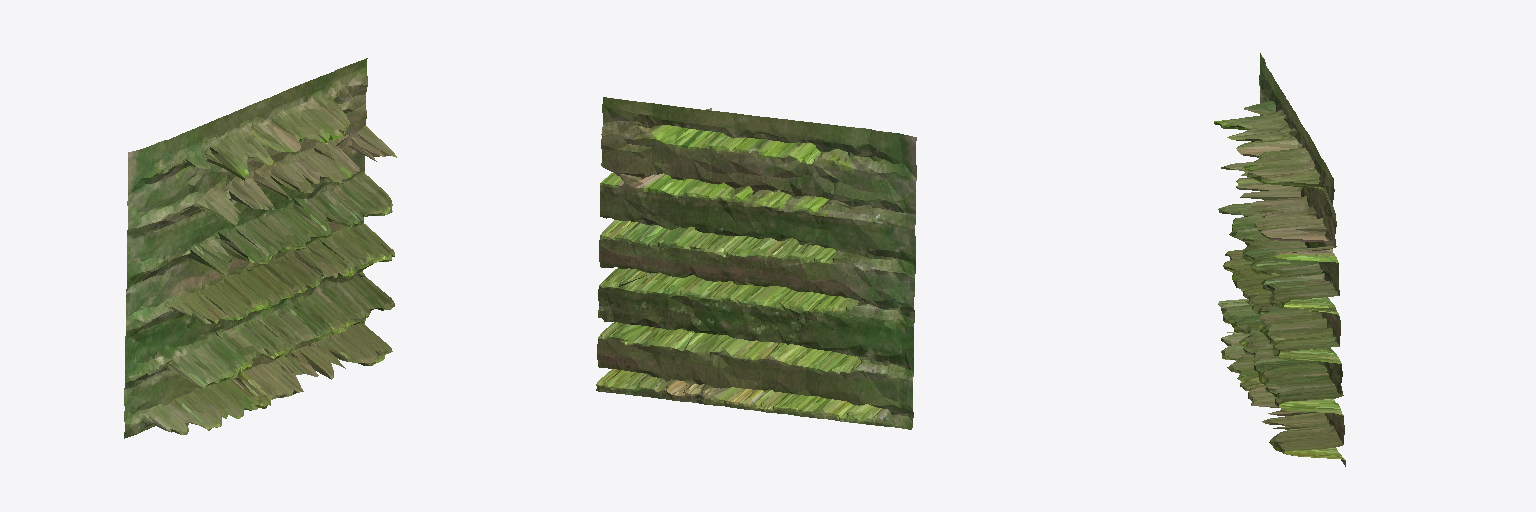
3 views of the same model, side by side, from view 1: azimuth 30°, elevation 25°; view 2: azimuth 150°, elevation 25°; view 3: azimuth 270°, elevation 25° (orthographic).
Visible parts, largest first — view 1: grp1; view 2: grp1; view 3: grp1.
Part boxes in pixels (bbox=[...]): grp1: bbox=[124, 58, 396, 438]; grp1: bbox=[596, 97, 916, 429]; grp1: bbox=[1214, 53, 1345, 466].
Bounding box in the file's own units: 10 × 10 × 4.15.
Materials: 1 (1 with a texture image).